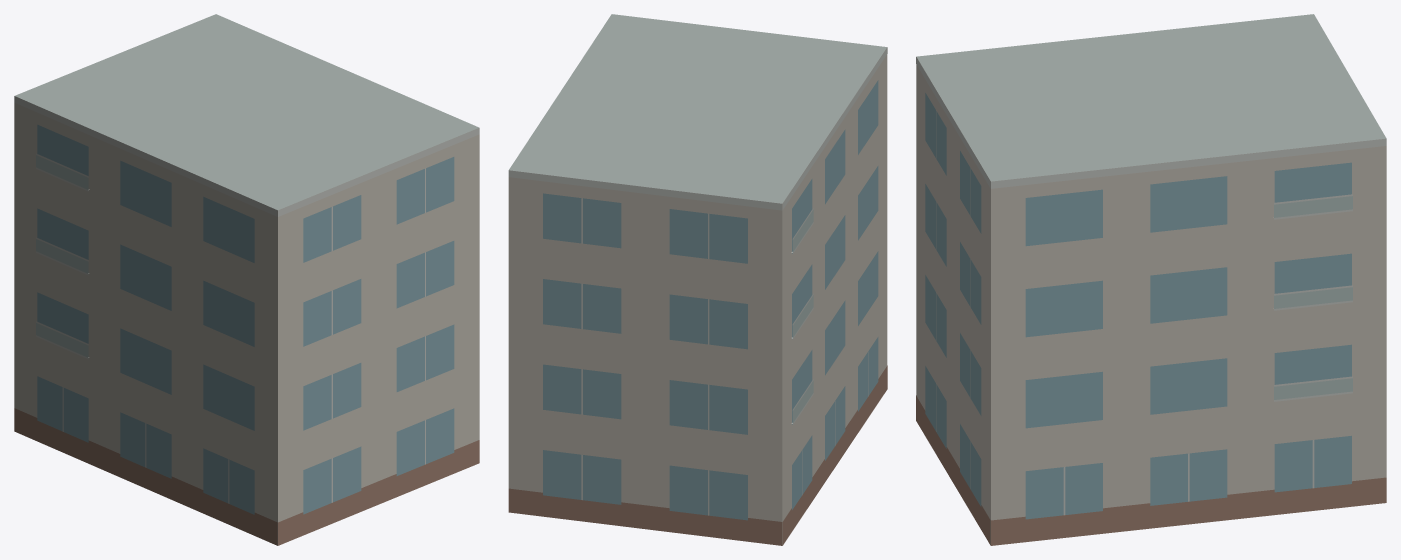
File: survey-upis-32719800.glb
3 views of the same model, side by side, from view 1: azimuth 30°, elevation 25°; view 2: azimuth 150°, elevation 25°; view 3: azimuth 270°, elevation 25° (orthographic). The views are drawn at different scales.
Visible parts, largest first — view 1: survey-upis-32719800.tmp; view 2: survey-upis-32719800.tmp; view 3: survey-upis-32719800.tmp.
Part boxes in pixels (x1,y1,x2,y2): survey-upis-32719800.tmp: (14,14,479,545); survey-upis-32719800.tmp: (508,14,887,545); survey-upis-32719800.tmp: (916,14,1386,545).
Bounding box in the file's own units: 12.05 × 12.2 × 14.29.
